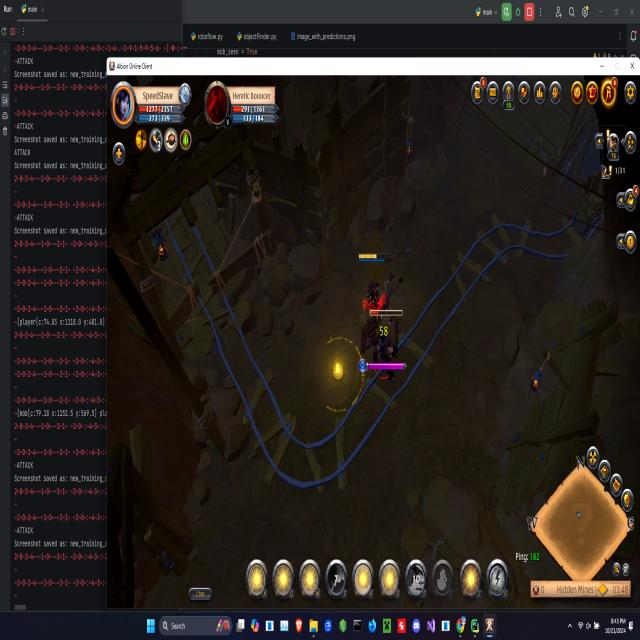ore: (361, 302, 406, 390)
red: (357, 250, 390, 315)
